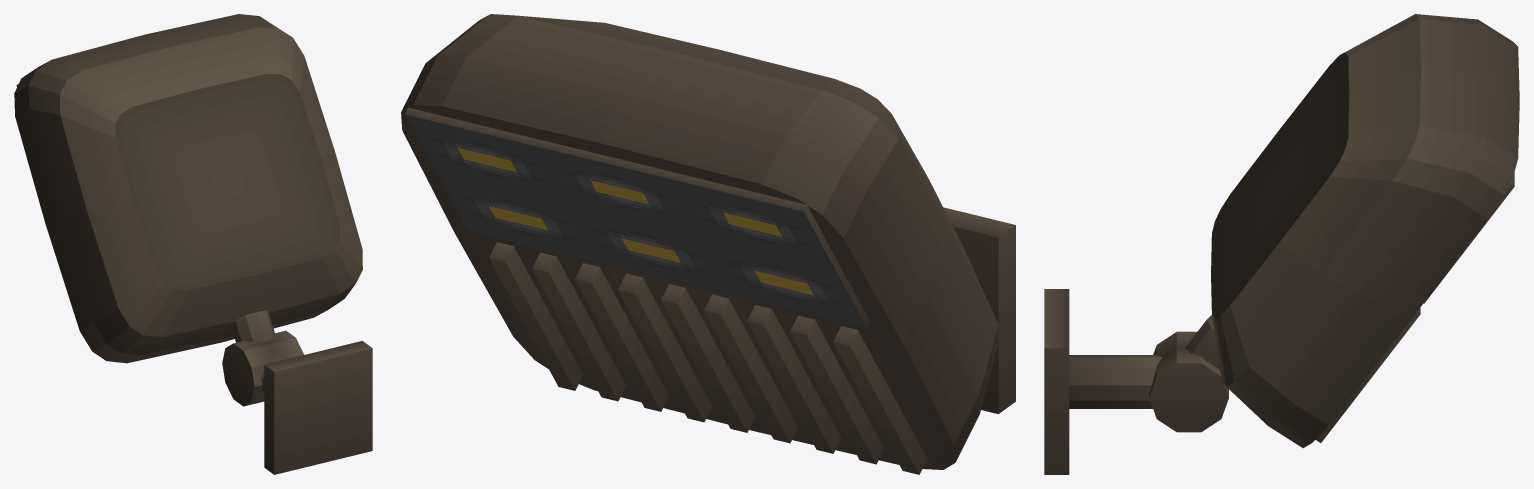
Rendered from floodlight_lithdsxf3kn.obj.
3 renders of one model, left to right at view 1: azimuth 30°, elevation 25°; view 2: azimuth 150°, elevation 25°; view 3: azimuth 270°, elevation 25°, orthographic. The views are drawn at different scales.
Parts seen in each view (by area): view 1: fixture; view 2: fixture; view 3: fixture.
Part boxes in pixels (bbox=[...]): fixture: bbox=[14, 14, 372, 474]; fixture: bbox=[401, 14, 1015, 474]; fixture: bbox=[1044, 14, 1519, 474].
Size of the model in its own units: 0.4643 by 0.5176 by 0.5949.
